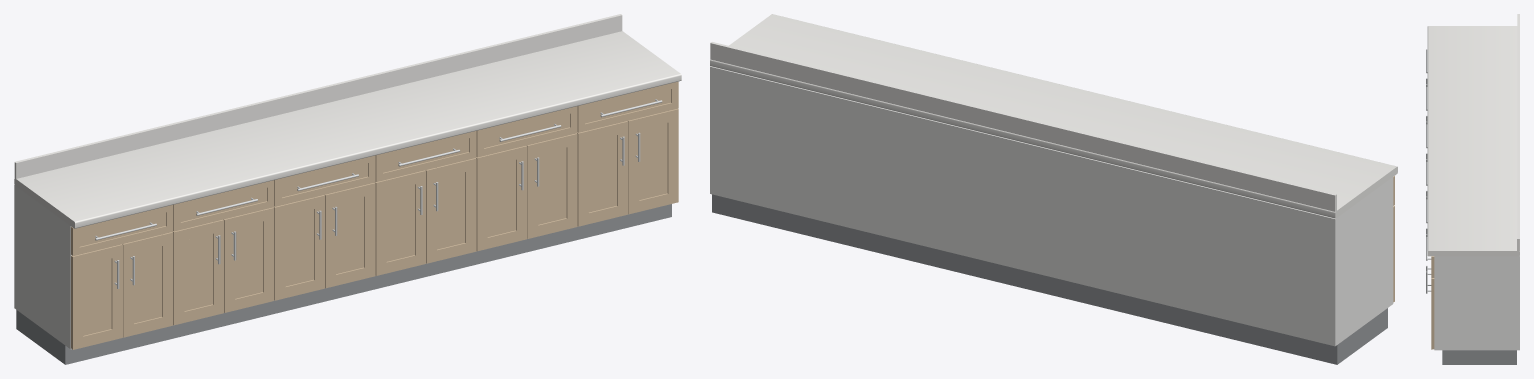
3 renders of one model, left to right at view 1: azimuth 30°, elevation 25°; view 2: azimuth 150°, elevation 25°; view 3: azimuth 270°, elevation 25°, orthographic. The views are drawn at different scales.
Visible parts, largest first — view 1: Tủ bếp dưới Dài=3600; Sâu=580; view 2: Tủ bếp dưới Dài=3600; Sâu=580; view 3: Tủ bếp dưới Dài=3600; Sâu=580.
Part boxes in pixels (x1,y1,x2,y2): Tủ bếp dưới Dài=3600; Sâu=580: (14, 14, 681, 364); Tủ bếp dưới Dài=3600; Sâu=580: (710, 14, 1397, 364); Tủ bếp dưới Dài=3600; Sâu=580: (1426, 14, 1519, 364).
Size of the model in its own units: 3.6 by 0.94 by 0.635.
